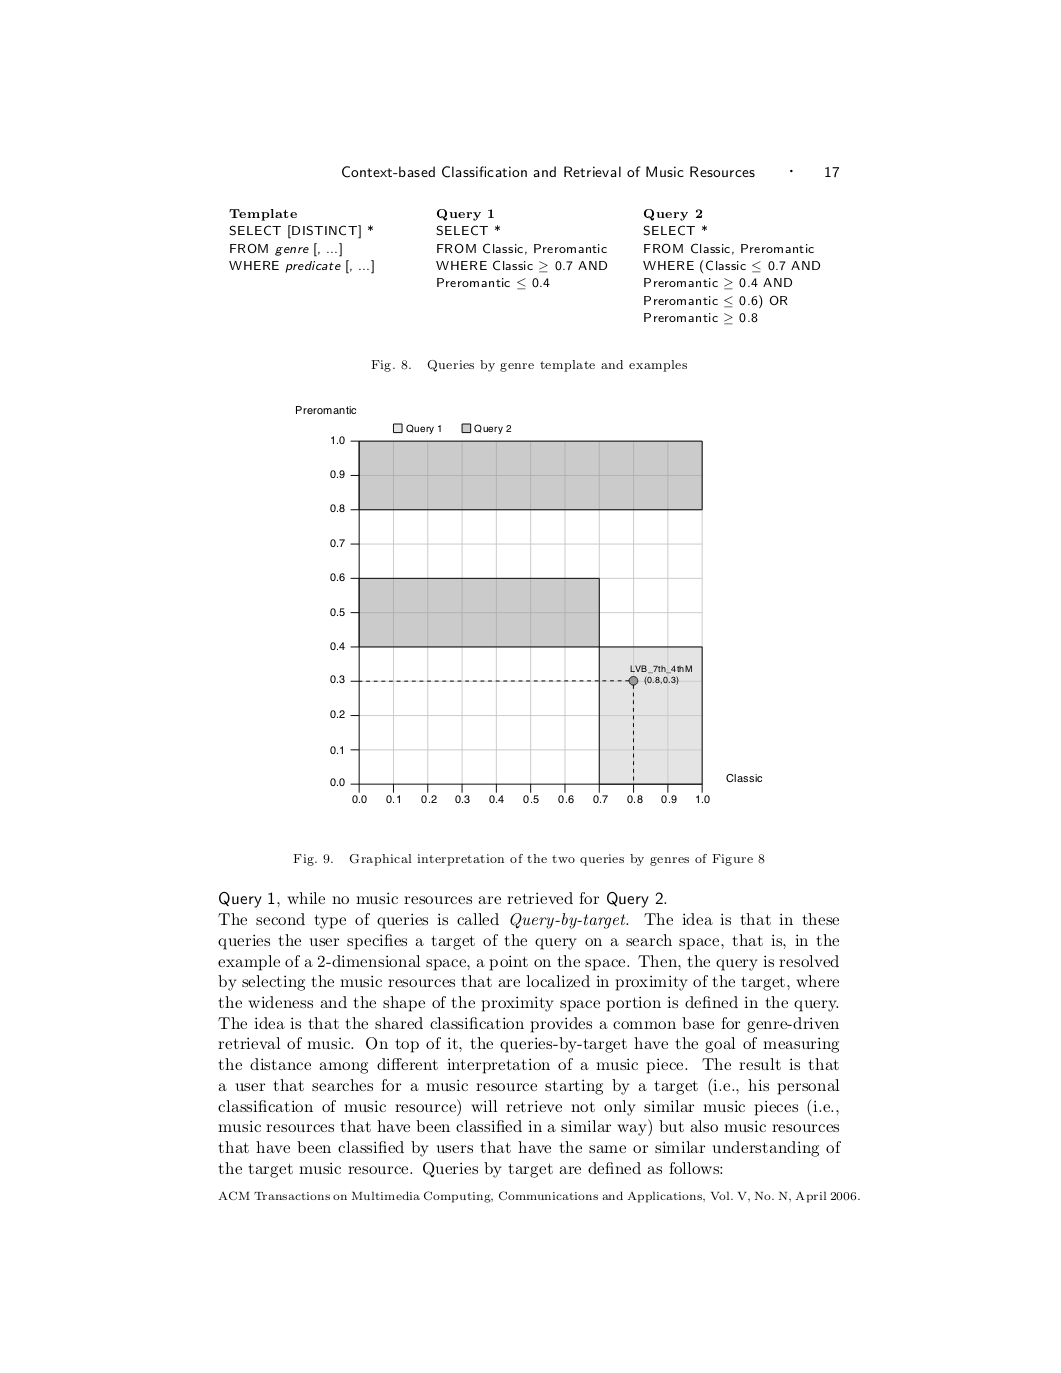Table: (228, 210, 820, 324)
figure: (330, 422, 762, 804)
